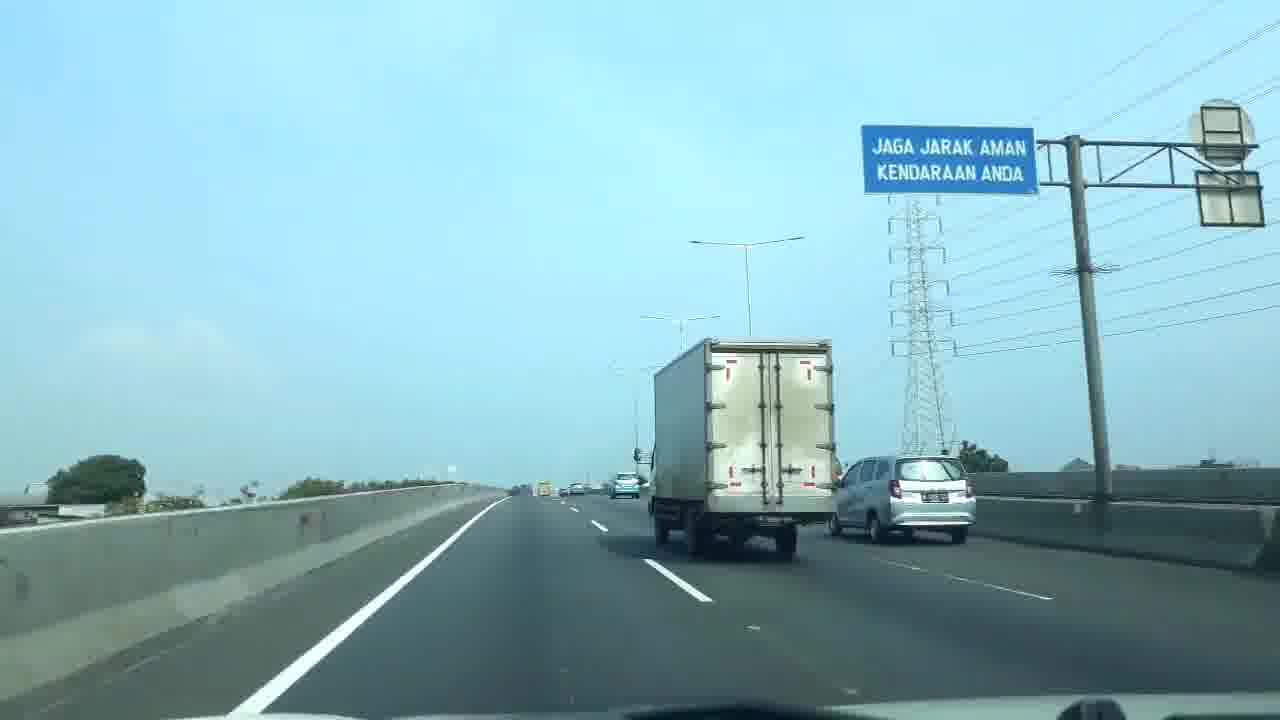plate_positive: (922, 492, 950, 503)
